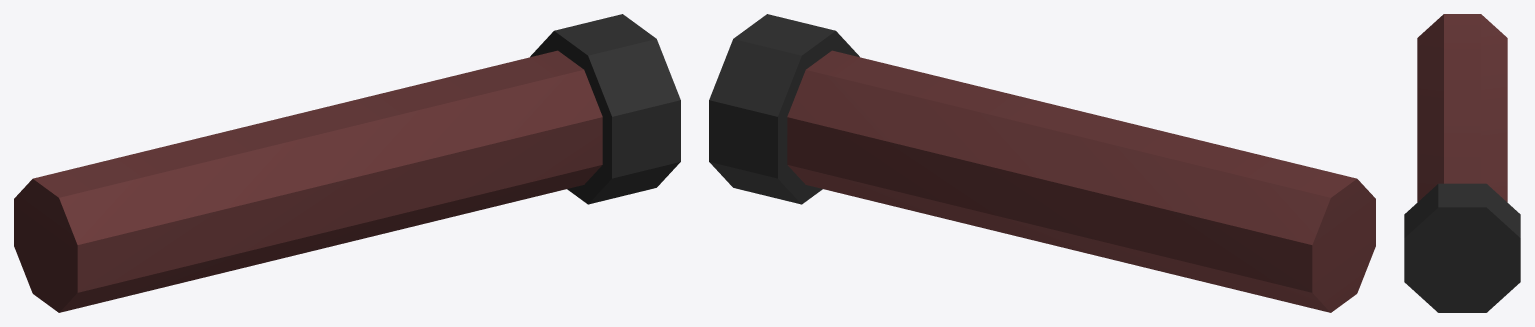
The model's file is SMG5_06_2.fbx.
3 views of the same model, side by side, from view 1: azimuth 30°, elevation 25°; view 2: azimuth 150°, elevation 25°; view 3: azimuth 270°, elevation 25° (orthographic). The views are drawn at different scales.
Visible parts, largest first — view 1: SMG5_06_2; view 2: SMG5_06_2; view 3: SMG5_06_2.
Part boxes in pixels (x1,y1,x2,y2): SMG5_06_2: (14,14,680,312); SMG5_06_2: (709,14,1375,312); SMG5_06_2: (1404,14,1520,312).
Size of the model in its own units: 0.3244 by 0.0777 by 0.0777.
